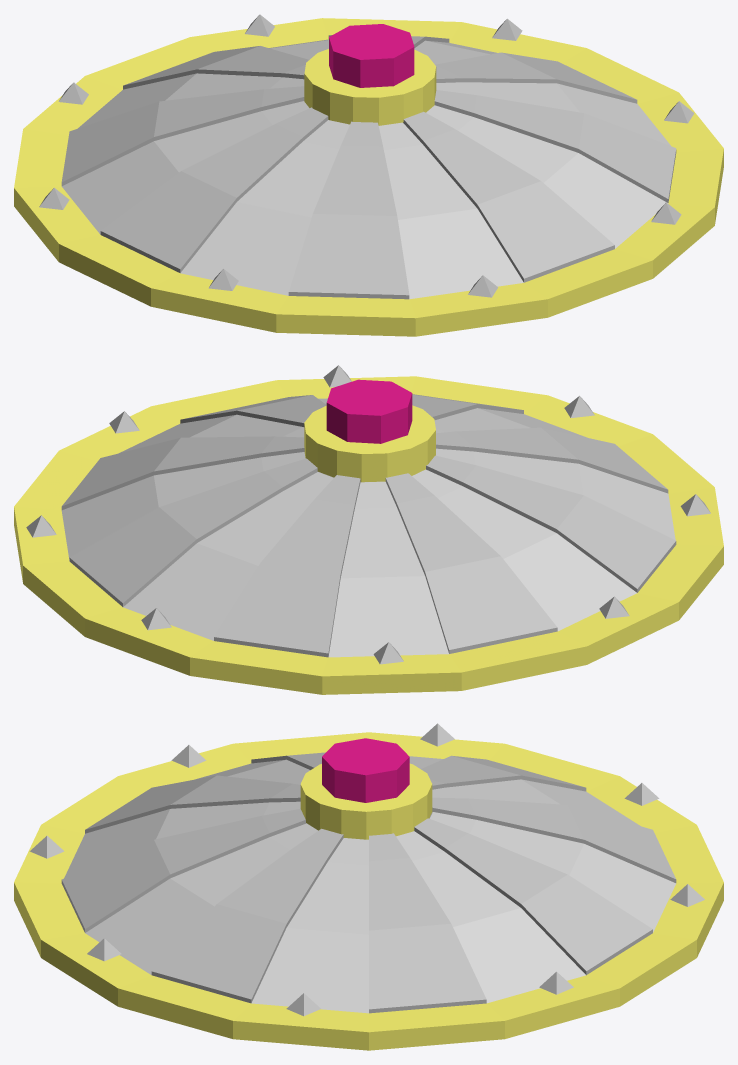
Rendered from Shield_1_e_metal.fbx.
3 renders of one model, top to bottom at view 1: azimuth 30°, elevation 25°; view 2: azimuth 150°, elevation 25°; view 3: azimuth 270°, elevation 25°, orthographic.
Visible parts, largest first — view 1: Circle.121, Circle.122, Circle.123, Circle.119, Circle.120, Cone.254; view 2: Circle.121, Circle.122, Circle.123, Circle.119, Circle.120, Cone.254; view 3: Circle.121, Circle.122, Circle.123, Circle.119, Circle.120, Cone.254.
Part boxes in pixels (bbox=[...]): Circle.121: bbox=[61, 35, 676, 299]; Circle.122: bbox=[62, 39, 670, 299]; Circle.123: bbox=[14, 18, 723, 336]; Circle.119: bbox=[304, 49, 436, 125]; Circle.120: bbox=[329, 24, 414, 87]; Cone.254: bbox=[39, 14, 694, 297]; Circle.121: bbox=[61, 394, 676, 657]; Circle.122: bbox=[61, 398, 675, 657]; Circle.123: bbox=[14, 376, 723, 694]; Circle.119: bbox=[304, 405, 435, 482]; Circle.120: bbox=[326, 379, 412, 443]; Cone.254: bbox=[26, 365, 710, 664]; Circle.121: bbox=[61, 752, 676, 1013]; Circle.122: bbox=[64, 756, 676, 1013]; Circle.123: bbox=[14, 732, 723, 1050]; Circle.119: bbox=[300, 763, 432, 839]; Circle.120: bbox=[322, 738, 409, 802]; Cone.254: bbox=[29, 723, 704, 1016].
Bounding box in the file's own units: 80.85 × 29.11 × 80.85.
